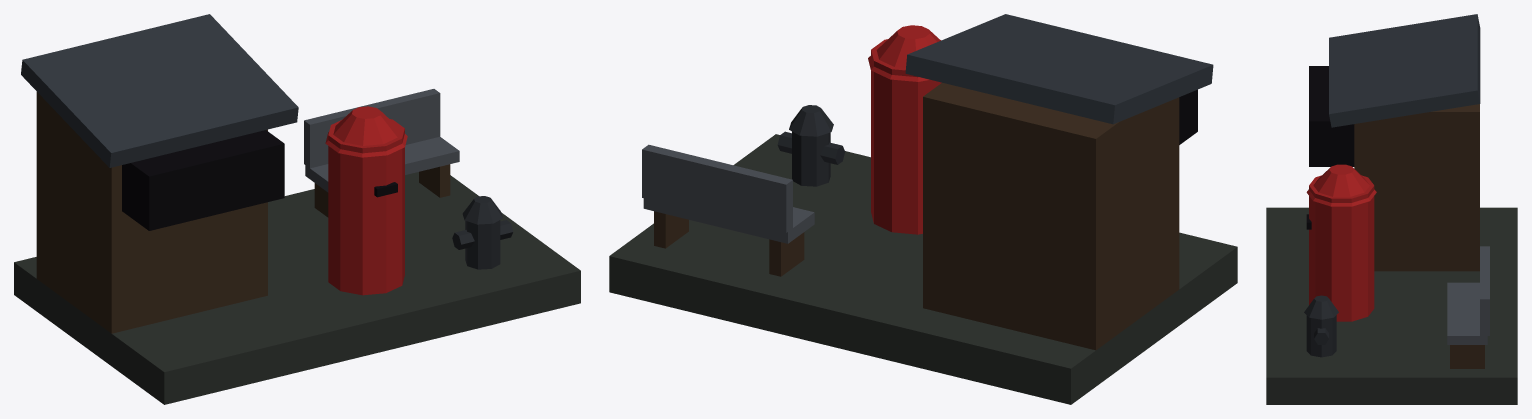
Rendered from street_kiosk.obj.
The picture shows the model from 3 angles, left to right: view 1: azimuth 30°, elevation 25°; view 2: azimuth 150°, elevation 25°; view 3: azimuth 270°, elevation 25°; orthographic projection. The views are drawn at different scales.
Parts seen in each view (by area): view 1: street_kiosk; view 2: street_kiosk; view 3: street_kiosk.
Boxes of the visible parts, left/top/right/bottom form: street_kiosk: left=14, top=14, right=580, bottom=404; street_kiosk: left=609, top=14, right=1237, bottom=404; street_kiosk: left=1266, top=14, right=1517, bottom=404.
Bounding box in the file's own units: 1.66 × 0.9416 × 1.
